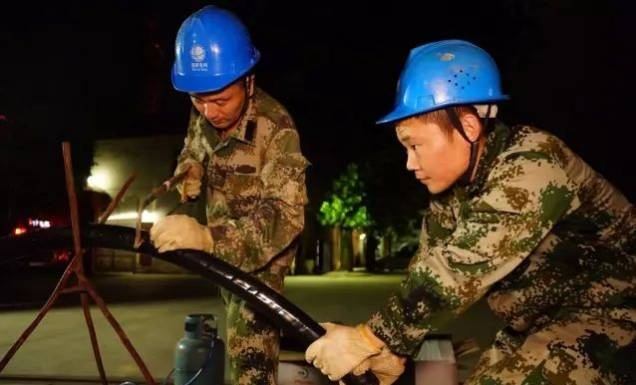blue: (390, 39, 512, 193), (166, 11, 257, 124)
